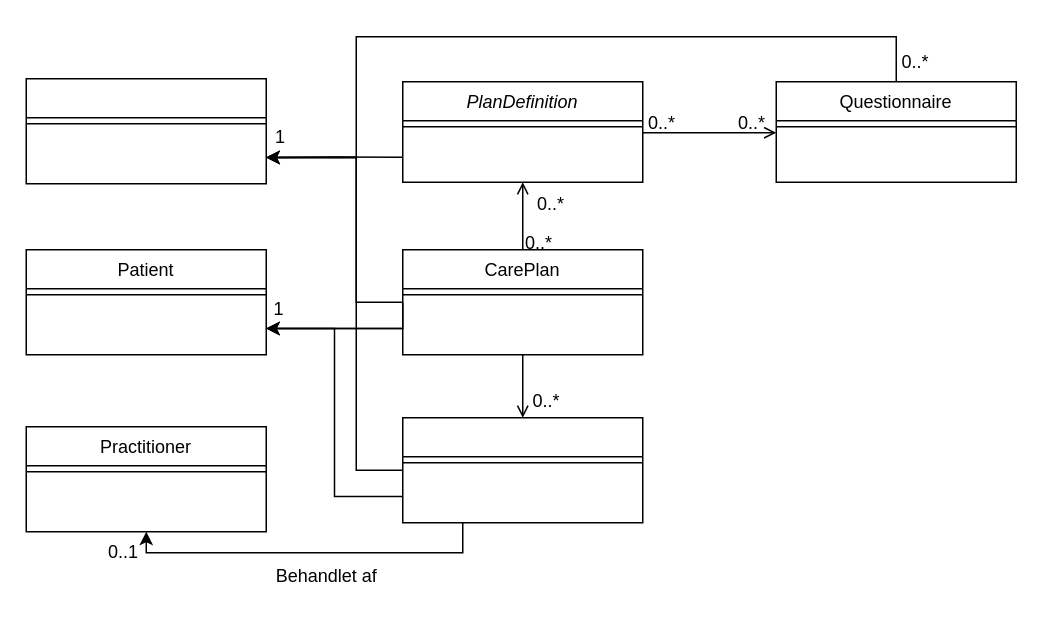
The diagram is 1043 pixels wide and 618 high, and some of its shapes have lost their labels. The box of each missing label's shape, as (x1, y1, x2, y2) in pixels:
Organisation: (25, 77, 266, 184)
QuestionnaireResponse: (401, 416, 643, 523)
